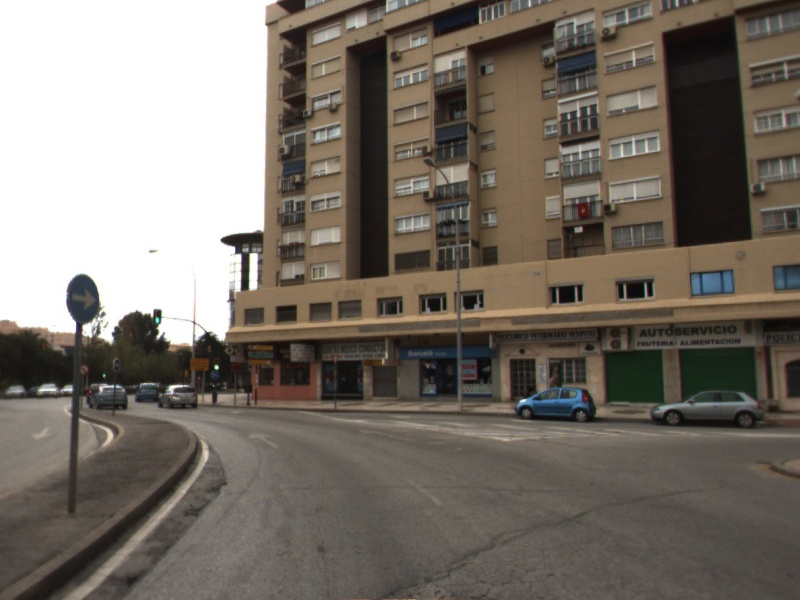STRAIGHT: (246, 430, 283, 450)
